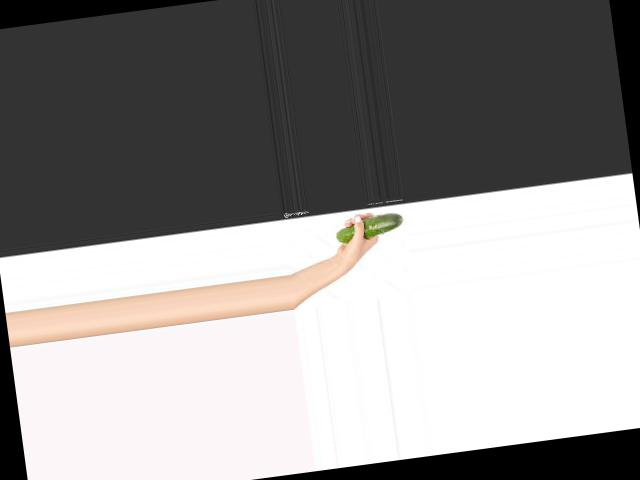cucumber: (334, 210, 406, 243)
